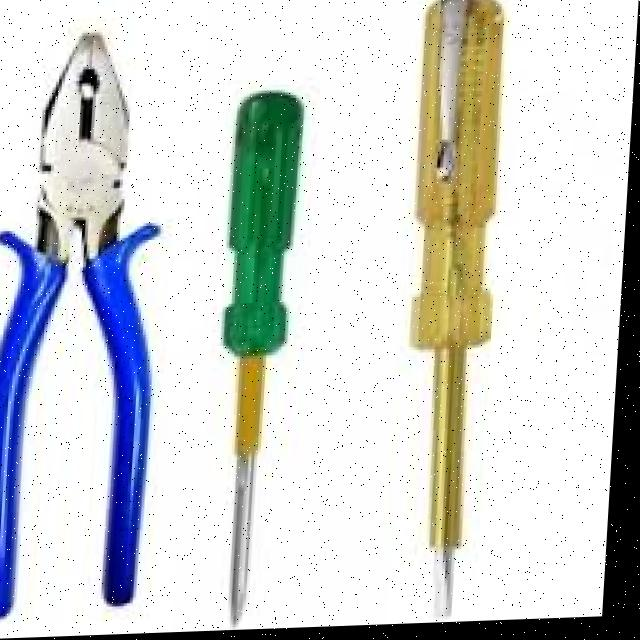Screwdriver: (415, 0, 504, 619), (228, 94, 305, 628)
